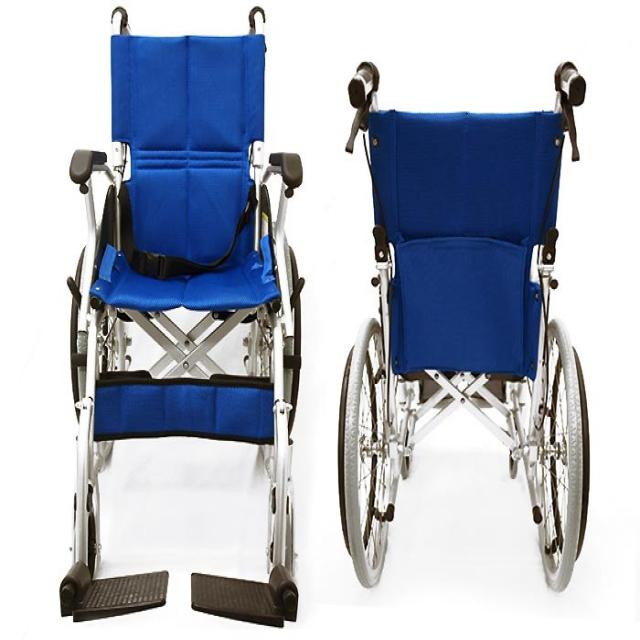wheelchairs: (71, 6, 304, 634), (336, 52, 594, 595)
